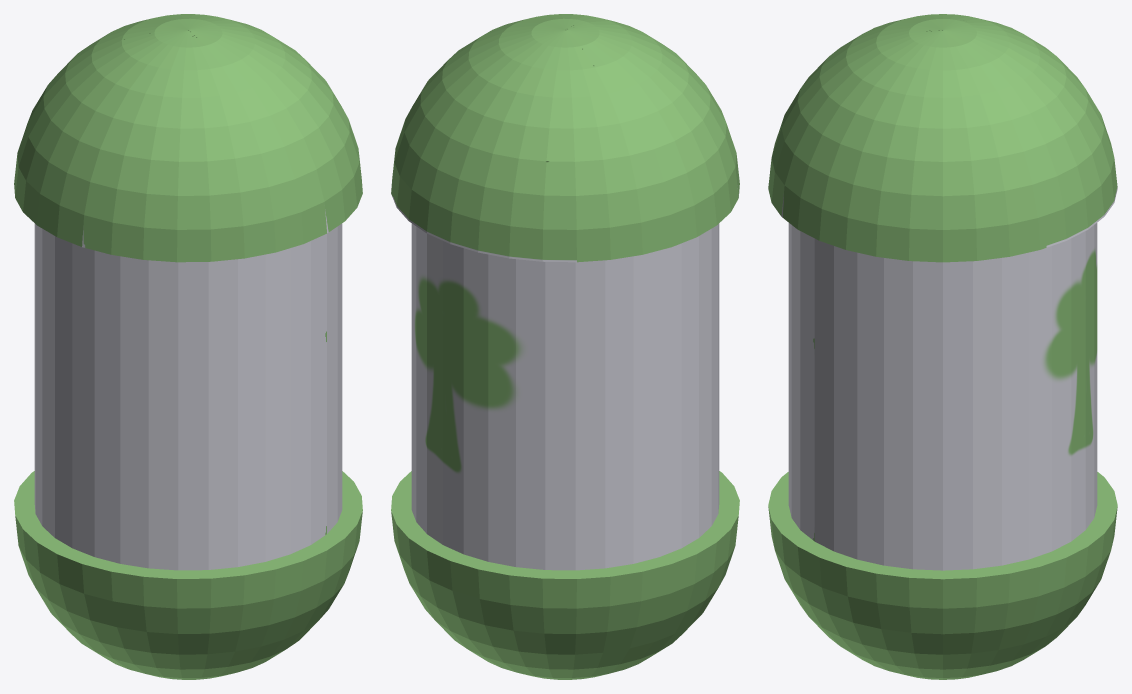
File: green_capsule.glb
3 renders of one model, left to right at view 1: azimuth 30°, elevation 25°; view 2: azimuth 150°, elevation 25°; view 3: azimuth 270°, elevation 25°, orthographic.
Visible parts, largest first — view 1: Sphere.001; view 2: Sphere.001; view 3: Sphere.001.
Part boxes in pixels (x1,y1,x2,y2): Sphere.001: (14, 14, 362, 679); Sphere.001: (391, 14, 739, 679); Sphere.001: (768, 14, 1117, 679).
Bounding box in the file's own units: 0.75 × 1.5 × 0.75.
1 material, 1 textured.
